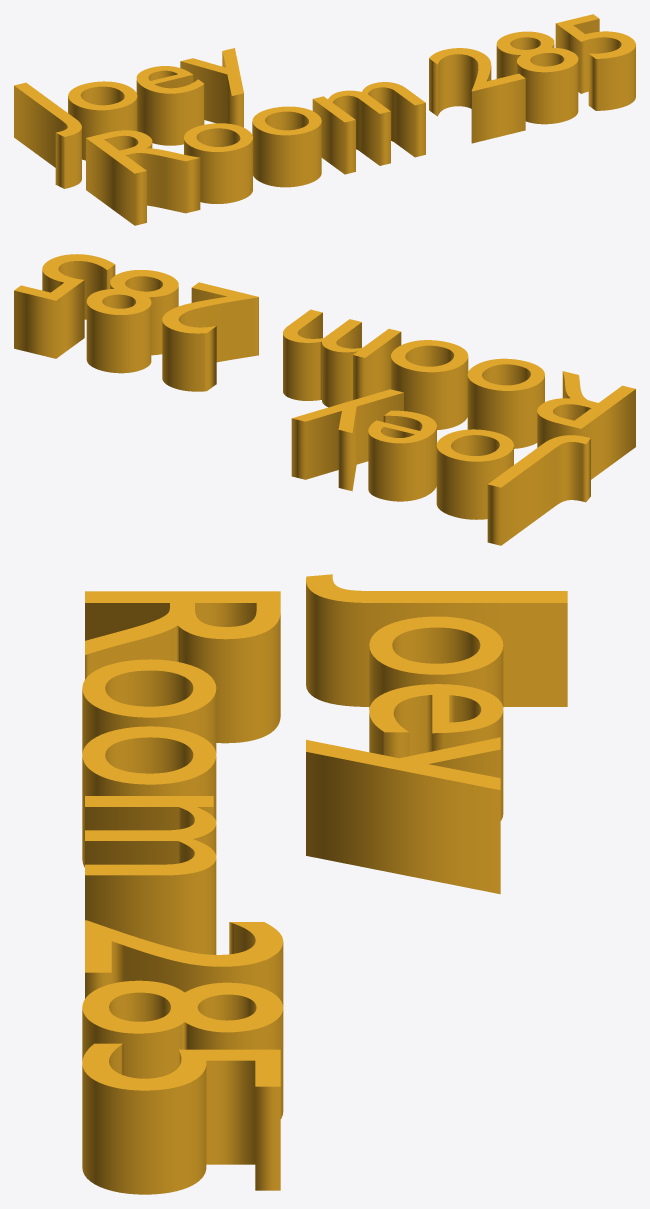
Rendered from joey-285.gltf.
3 renders of one model, top to bottom at view 1: azimuth 30°, elevation 25°; view 2: azimuth 150°, elevation 25°; view 3: azimuth 270°, elevation 25°, orthographic. The views are drawn at different scales.
Parts seen in each view (by area): view 1: Text; view 2: Text; view 3: Text.
Boxes of the visible parts, x1,y1,x2,y2 form: Text: [14, 14, 635, 225]; Text: [14, 254, 635, 545]; Text: [82, 574, 567, 1194].
Bounding box in the file's own units: 4.26 × 0.4 × 1.69.
